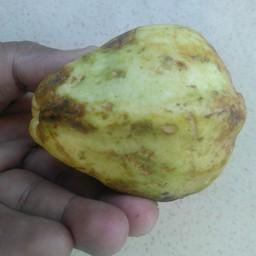Bad_guava: (25, 21, 245, 201)
